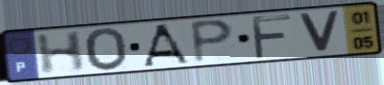A: (141, 22, 193, 68)
F: (249, 13, 295, 61)
H: (35, 29, 87, 77)
O: (82, 26, 131, 73)
P: (188, 17, 237, 66)
V: (295, 10, 342, 54)
